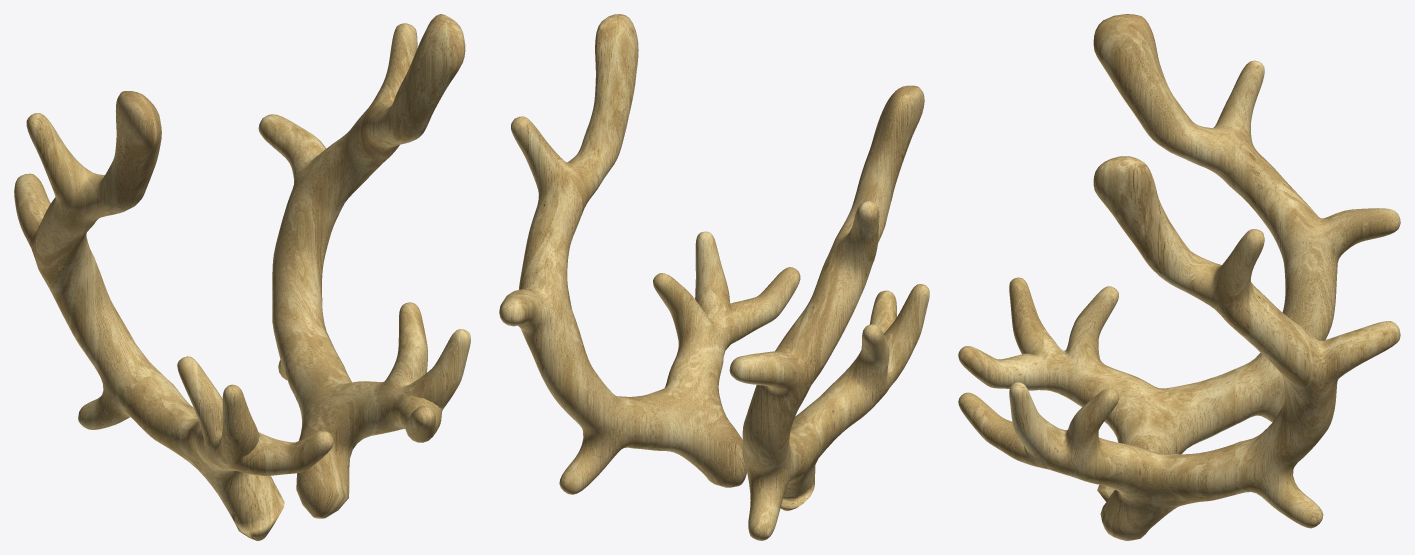
File: tonakai.glb
The picture shows the model from 3 angles, left to right: view 1: azimuth 30°, elevation 25°; view 2: azimuth 150°, elevation 25°; view 3: azimuth 270°, elevation 25°; orthographic projection. The views are drawn at different scales.
Visible parts, largest first — view 1: 17828_Reindeer_Prancing_new; view 2: 17828_Reindeer_Prancing_new; view 3: 17828_Reindeer_Prancing_new.
Boxes of the visible parts, x1=… form: 17828_Reindeer_Prancing_new: x1=14, y1=14, x2=470, y2=540; 17828_Reindeer_Prancing_new: x1=499, y1=14, x2=929, y2=540; 17828_Reindeer_Prancing_new: x1=958, y1=14, x2=1400, y2=540.
Size of the model in its own units: 2.19 by 2.58 by 2.31.
Materials: 1 (1 with a texture image).
